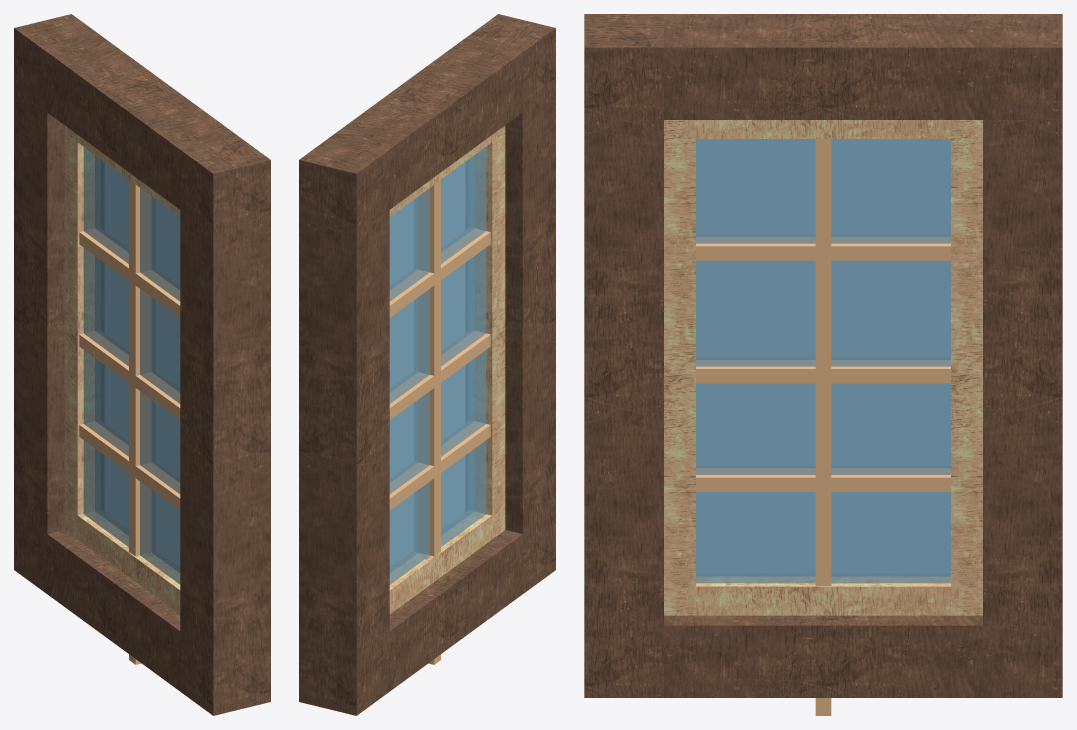
The model's file is ep5t-cua-so-go.glb.
3 renders of one model, left to right at view 1: azimuth 30°, elevation 25°; view 2: azimuth 150°, elevation 25°; view 3: azimuth 270°, elevation 25°, orthographic. The views are drawn at different scales.
Parts seen in each view (by area): view 1: ep5t-cua-so-go; view 2: ep5t-cua-so-go; view 3: ep5t-cua-so-go.
Boxes of the visible parts, x1,y1,x2,y2 form: ep5t-cua-so-go: (14,14,270,715); ep5t-cua-so-go: (299,14,555,715); ep5t-cua-so-go: (584,14,1062,715).
Bounding box in the file's own units: 0.9995 × 9.4 × 6.
Materials: 4 (2 with a texture image).
